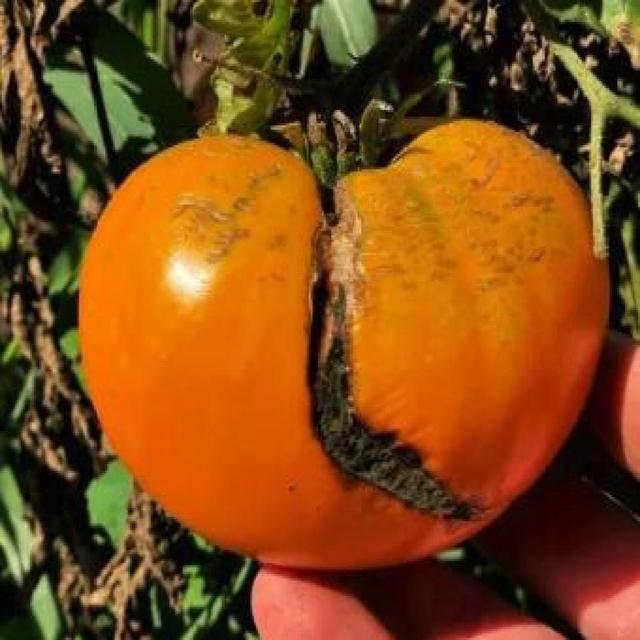Cracking Fruit: (187, 107, 320, 357)
